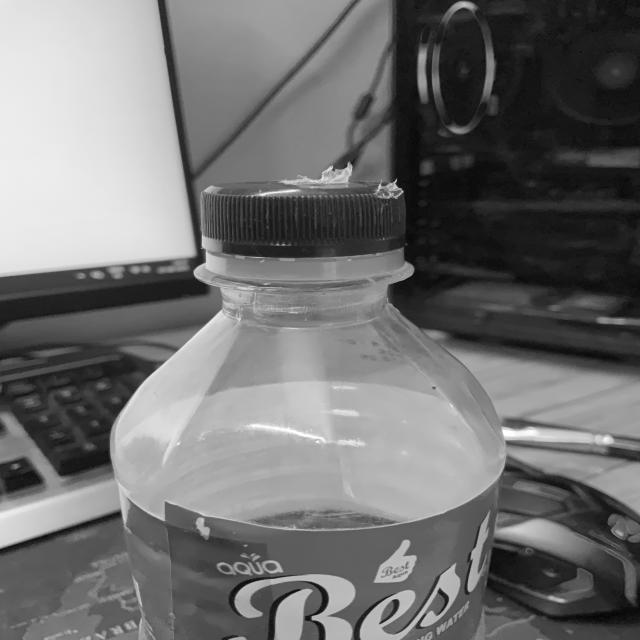Good-cap-Df0S: (195, 178, 418, 277)
